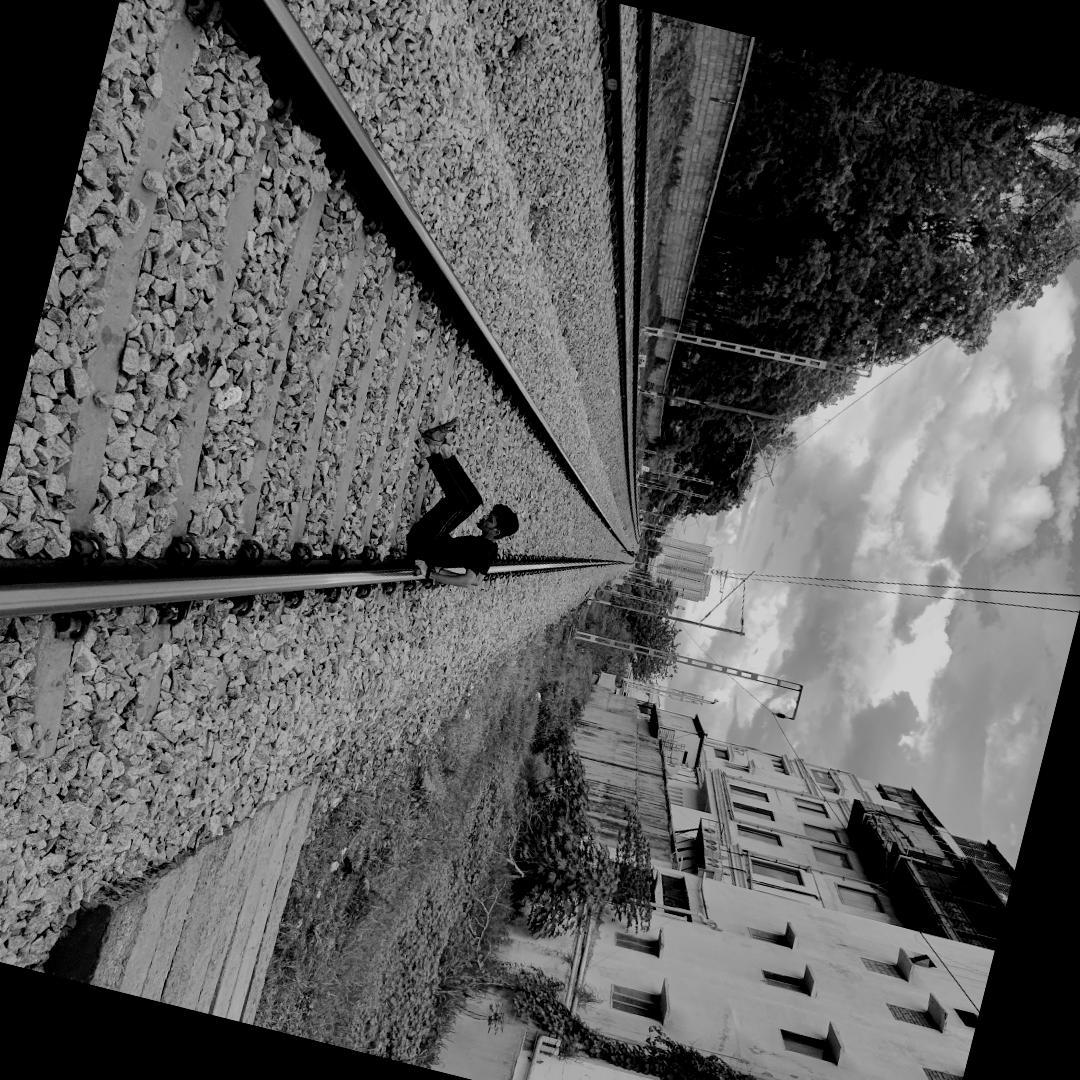sitting: (378, 402, 545, 614)
